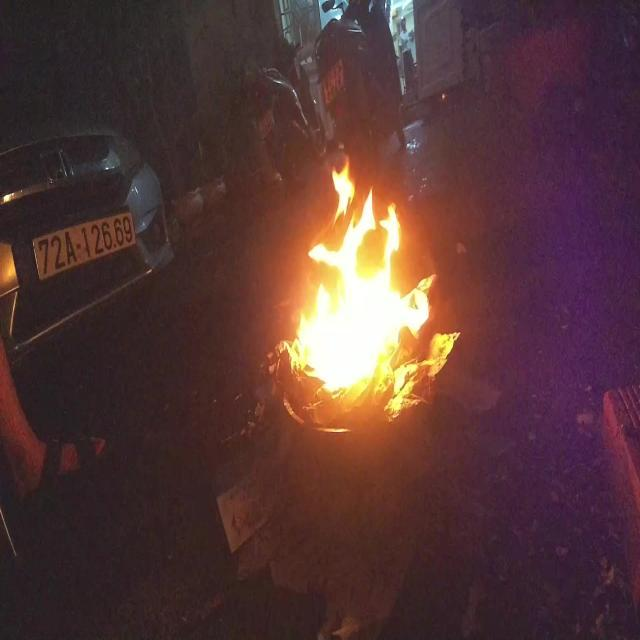Fire: (284, 155, 462, 446)
